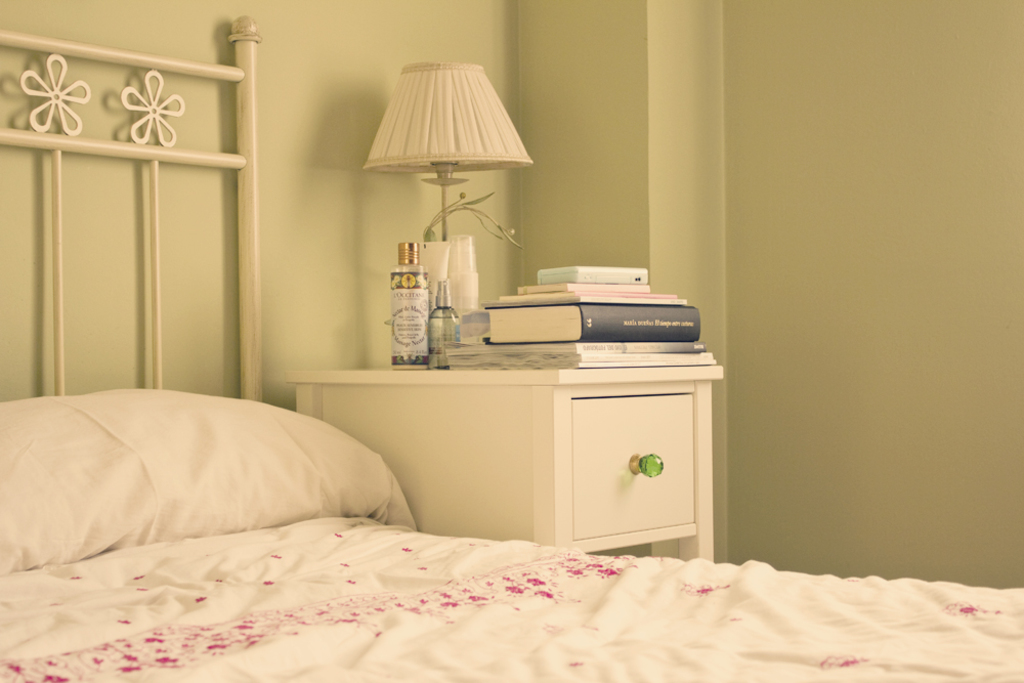cabinet door: (569, 401, 703, 526)
handle: (625, 443, 669, 484)
